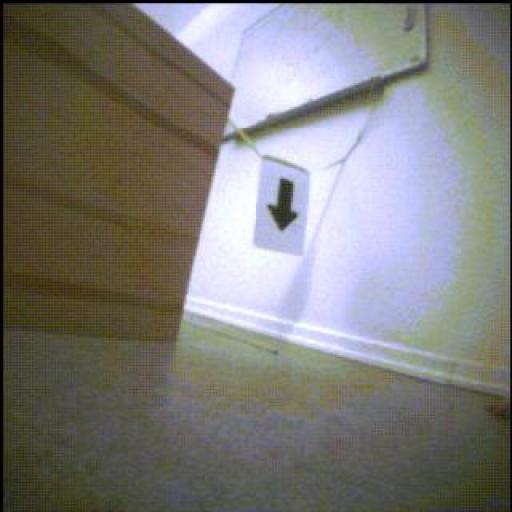arrow: (268, 181, 299, 232)
